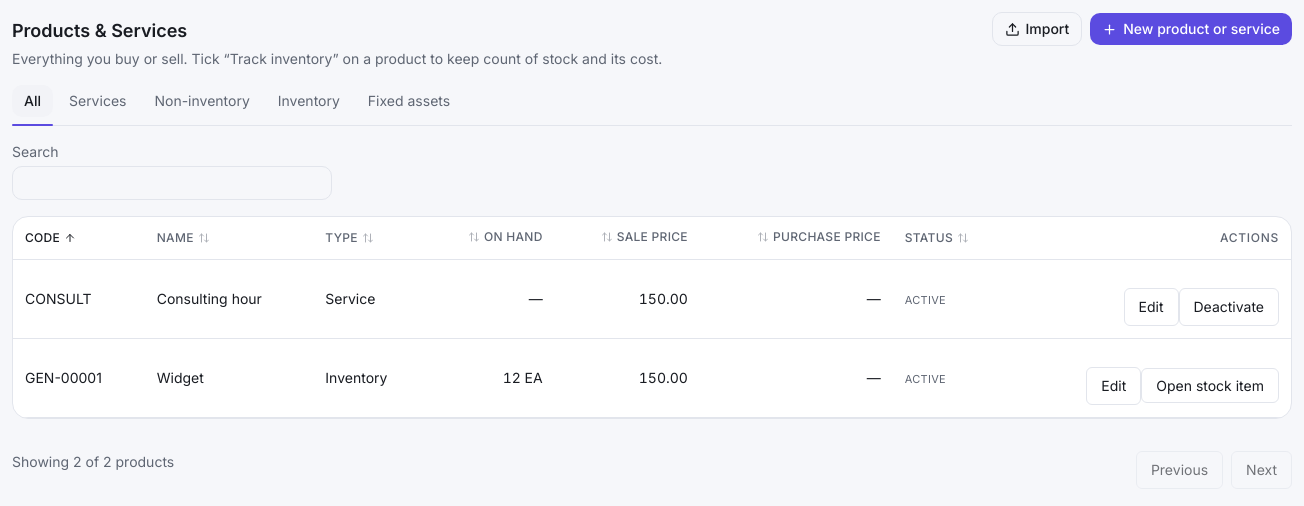
Test case: ProductsPage › the type tabs filter the list
Expected: the text "GEN-00001" is shown, left=13, top=338, right=145, bottom=417
Click the tab "Services" at (98, 100), box left=57, top=84, right=138, bottom=116
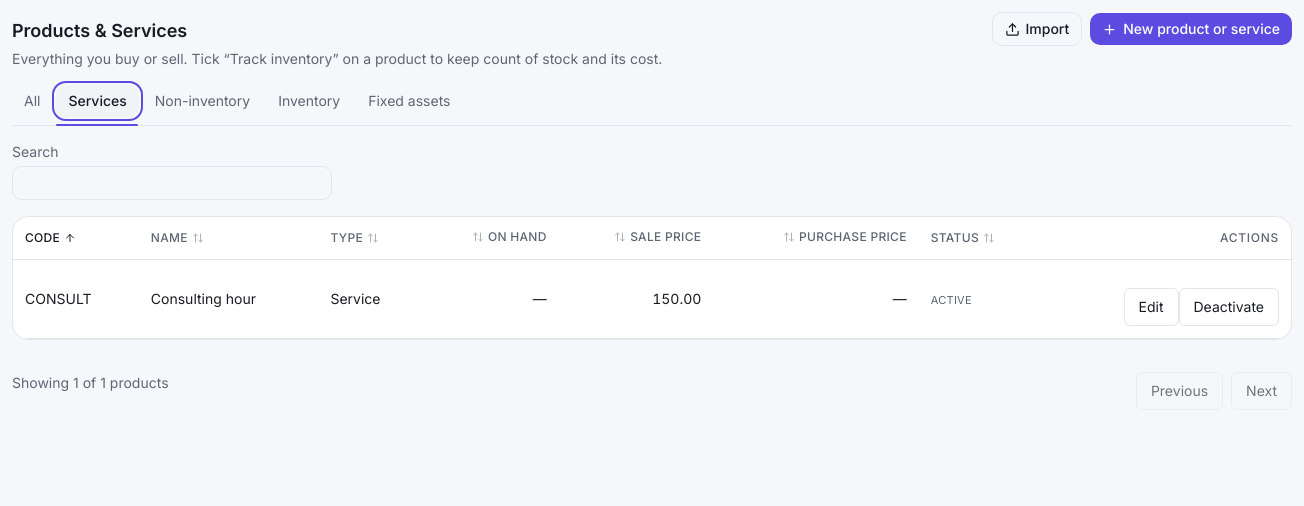
Expected: the text "CONSULT" is shown, left=13, top=259, right=139, bottom=338
Expected: the text "GEN-00001" is gone
